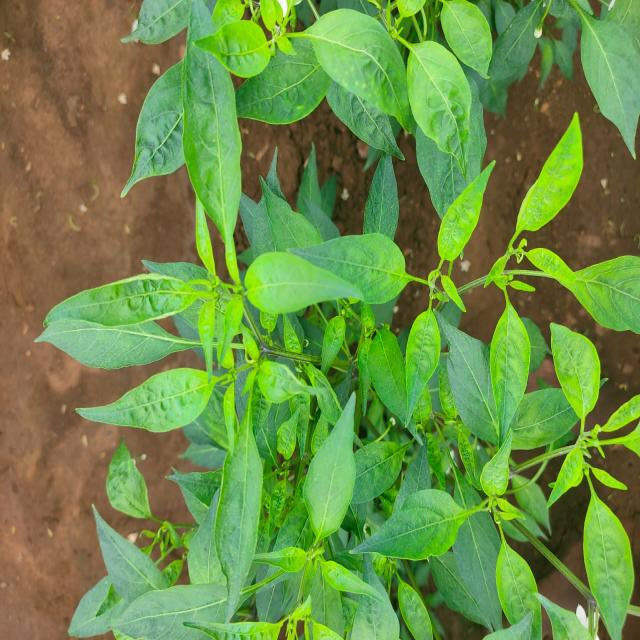Mosaic_virus: (44, 0, 640, 640)
